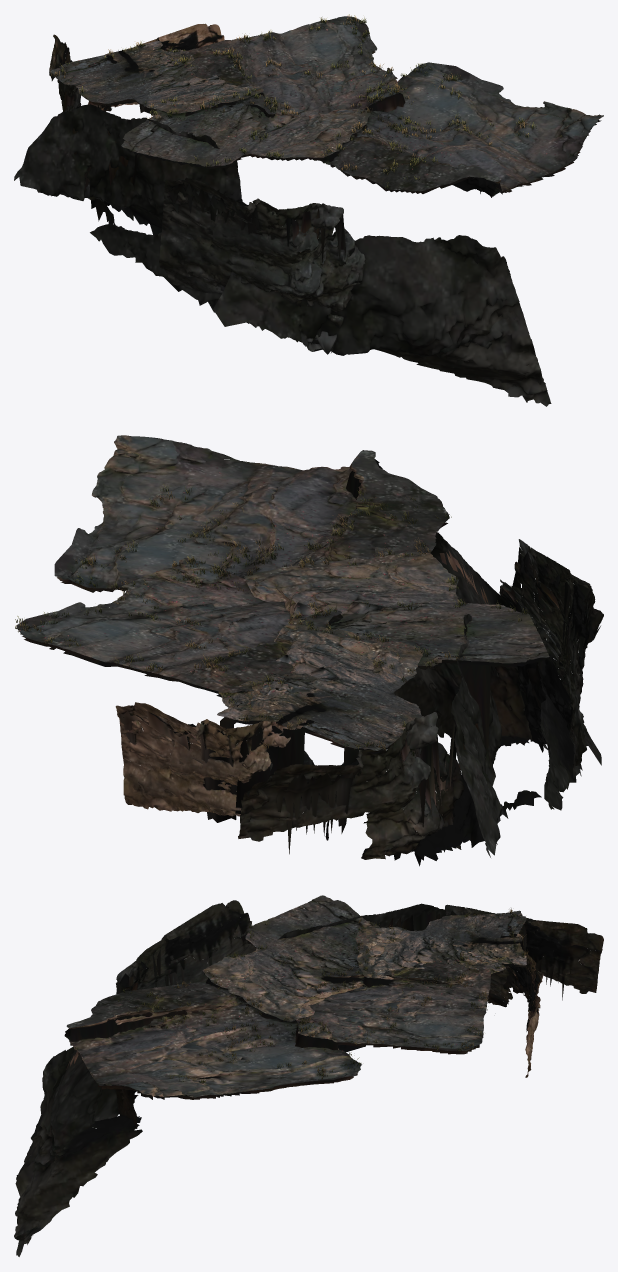
The model's file is cliff-phone.glb.
3 views of the same model, one above another, from view 1: azimuth 30°, elevation 25°; view 2: azimuth 150°, elevation 25°; view 3: azimuth 270°, elevation 25° (orthographic). The views are drawn at different scales.
Parts seen in each view (by area): view 1: Cliff_Stone, Alpine grass, Fallen cherry petals; view 2: Cliff_Stone, Alpine grass, Fallen cherry petals; view 3: Cliff_Stone, Alpine grass, Fallen cherry petals.
Boxes of the visible parts, x1,y1,x2,y2 form: Cliff_Stone: [14, 16, 603, 406]; Alpine grass: [51, 14, 536, 277]; Fallen cherry petals: [62, 16, 555, 174]; Cliff_Stone: [16, 435, 603, 866]; Alpine grass: [15, 484, 529, 756]; Fallen cherry petals: [19, 467, 522, 746]; Cliff_Stone: [14, 895, 603, 1256]; Alpine grass: [118, 908, 528, 1082]; Fallen cherry petals: [116, 913, 523, 1081].
Bounding box in the file's own units: 15.4 × 7.81 × 17.99.
2 materials, 1 textured.
